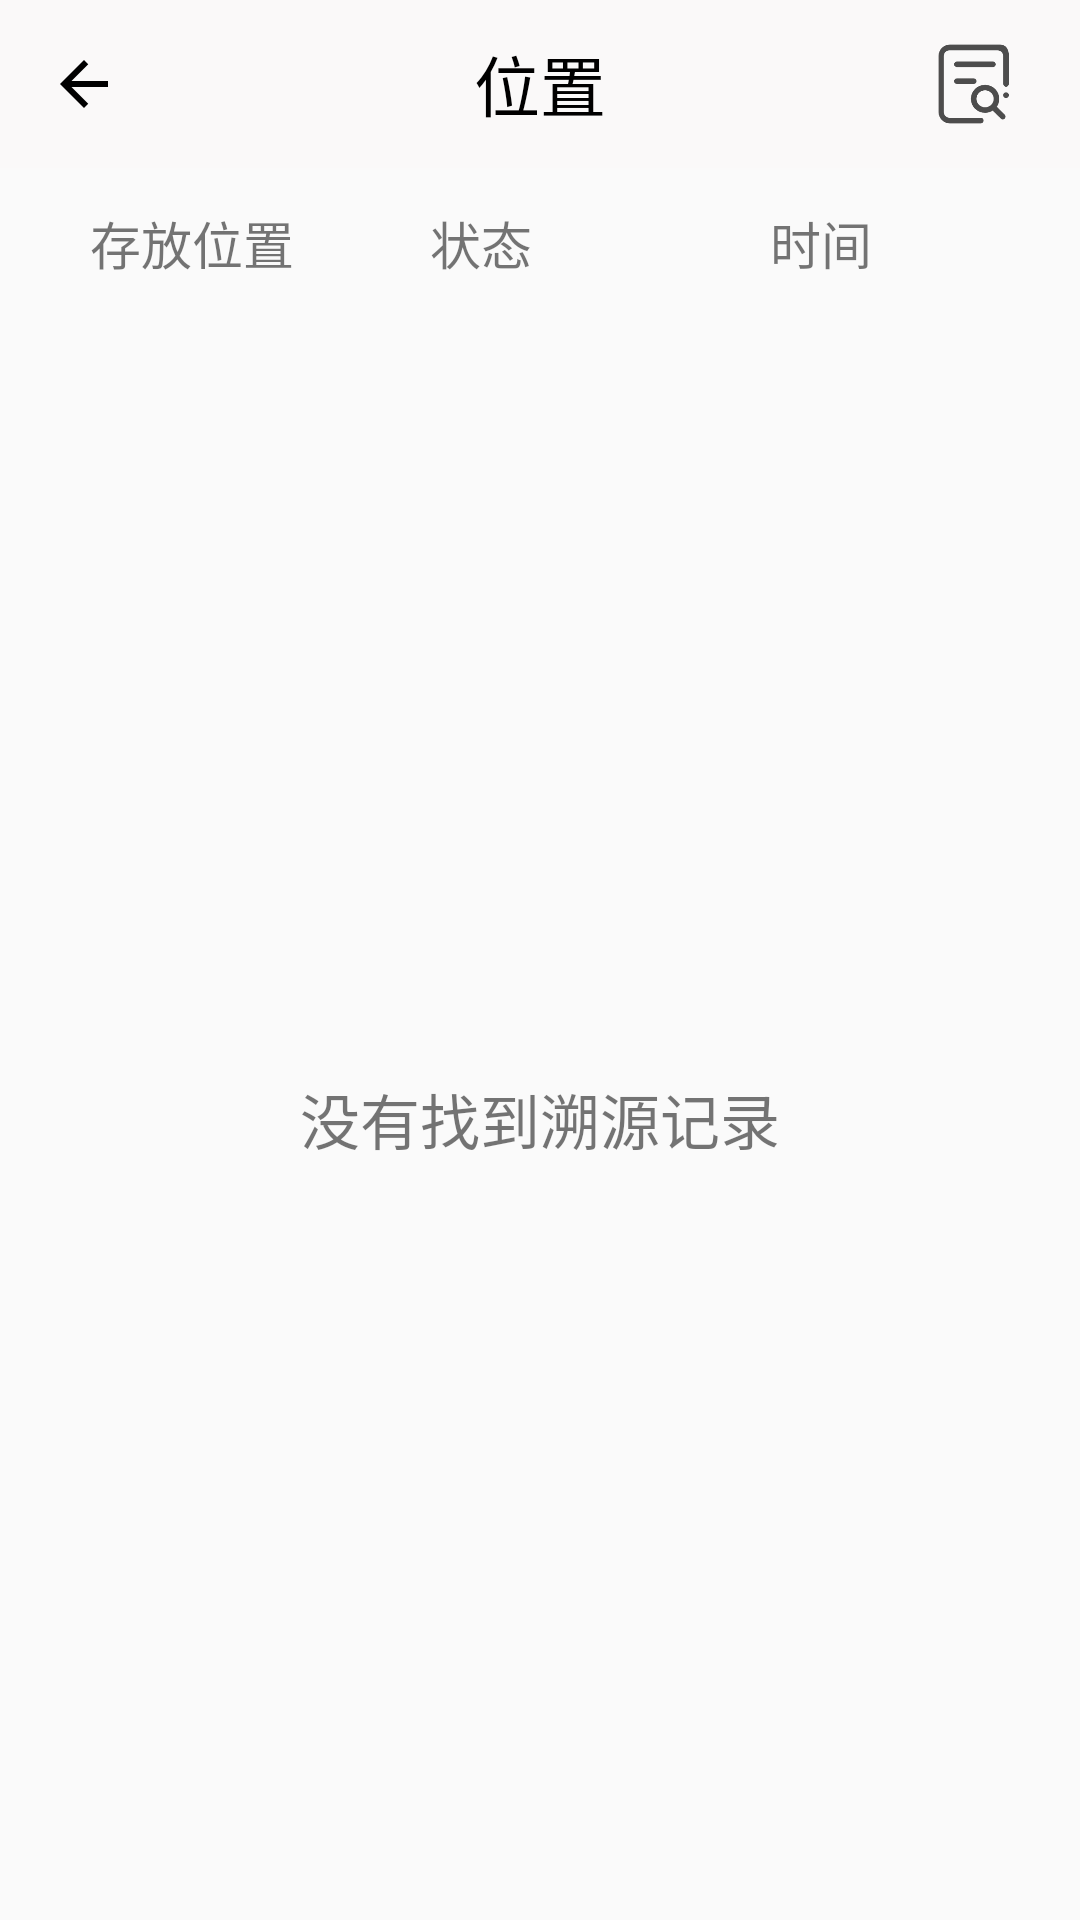

Locate icon controls on the screen. Image size 1080px×1920px, boxes as rect(x1, y1, x2, y2).
details: rect(938, 44, 1009, 124)
